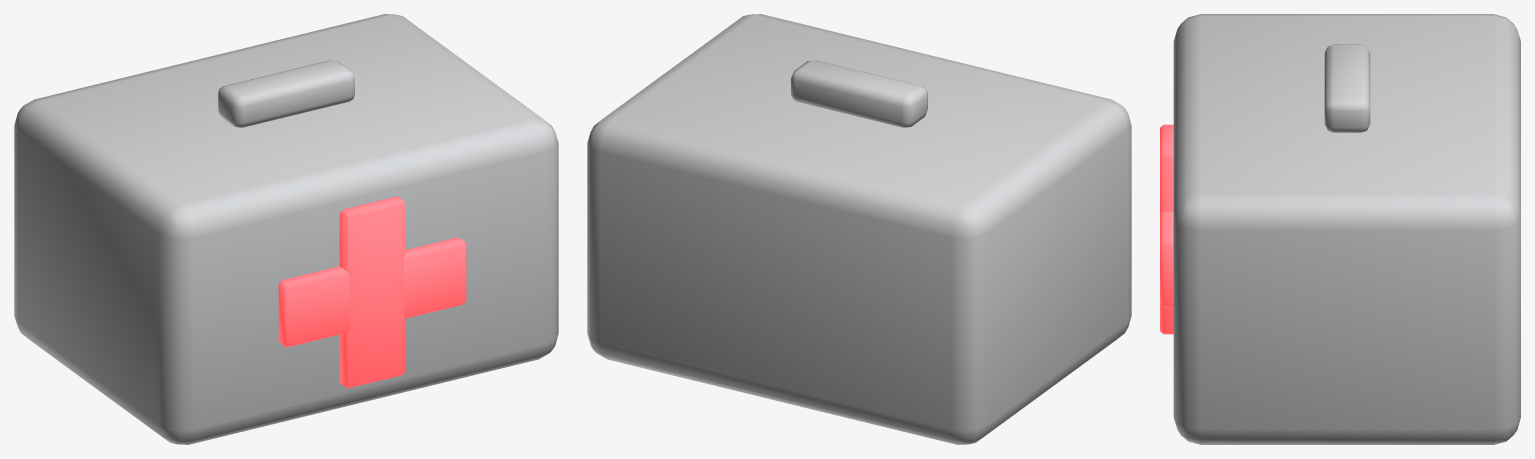
The model's file is medkit.glb.
The picture shows the model from 3 angles, left to right: view 1: azimuth 30°, elevation 25°; view 2: azimuth 150°, elevation 25°; view 3: azimuth 270°, elevation 25°; orthographic projection. The views are drawn at different scales.
Visible parts, largest first — view 1: medkit; view 2: medkit; view 3: medkit.
Part boxes in pixels (bbox=[...]): medkit: bbox=[14, 14, 558, 444]; medkit: bbox=[587, 14, 1131, 444]; medkit: bbox=[1160, 14, 1520, 444].
Bounding box in the file's own units: 0.52 × 0.34 × 0.395.
